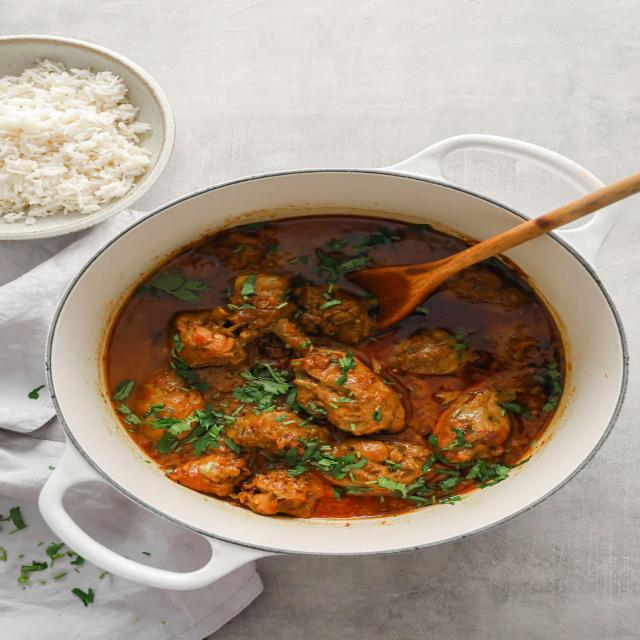chicken: (112, 235, 585, 526)
rice: (0, 58, 132, 232)
